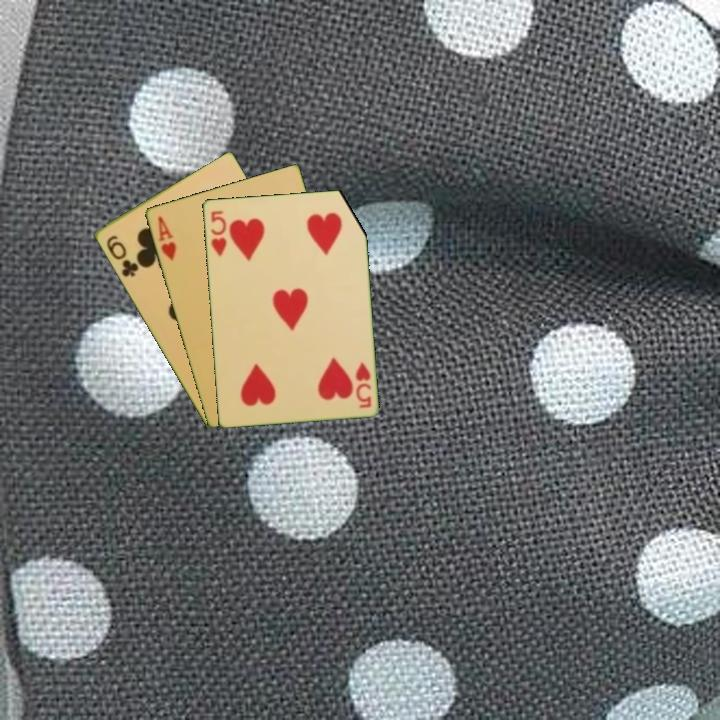5h: (207, 207, 229, 259), (352, 359, 374, 410)
6c: (102, 231, 141, 280)
Ah: (154, 212, 179, 263)
